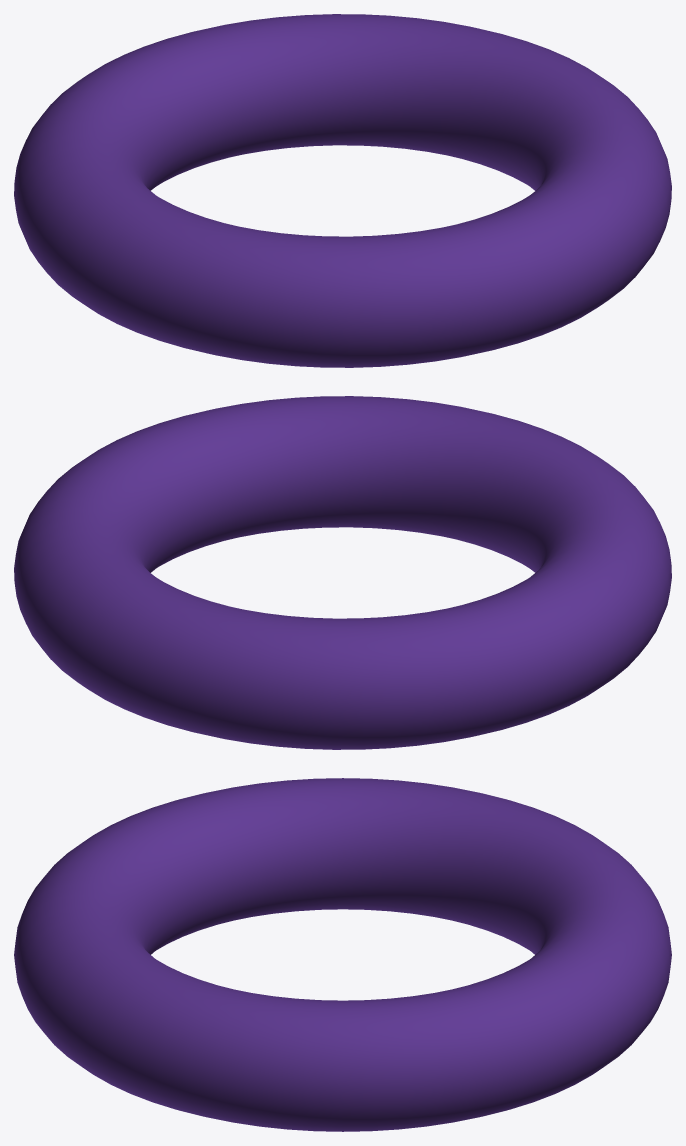
File: almost_eye_nonmetallic.gltf
3 renders of one model, top to bottom at view 1: azimuth 30°, elevation 25°; view 2: azimuth 150°, elevation 25°; view 3: azimuth 270°, elevation 25°, orthographic.
Parts seen in each view (by area): view 1: Torus; view 2: Torus; view 3: Torus.
Part boxes in pixels (x1,y1,x2,y2): Torus: (14,14,671,367); Torus: (14,396,671,749); Torus: (14,778,671,1131).
Size of the model in its own units: 2.5 by 0.4964 by 2.5.
